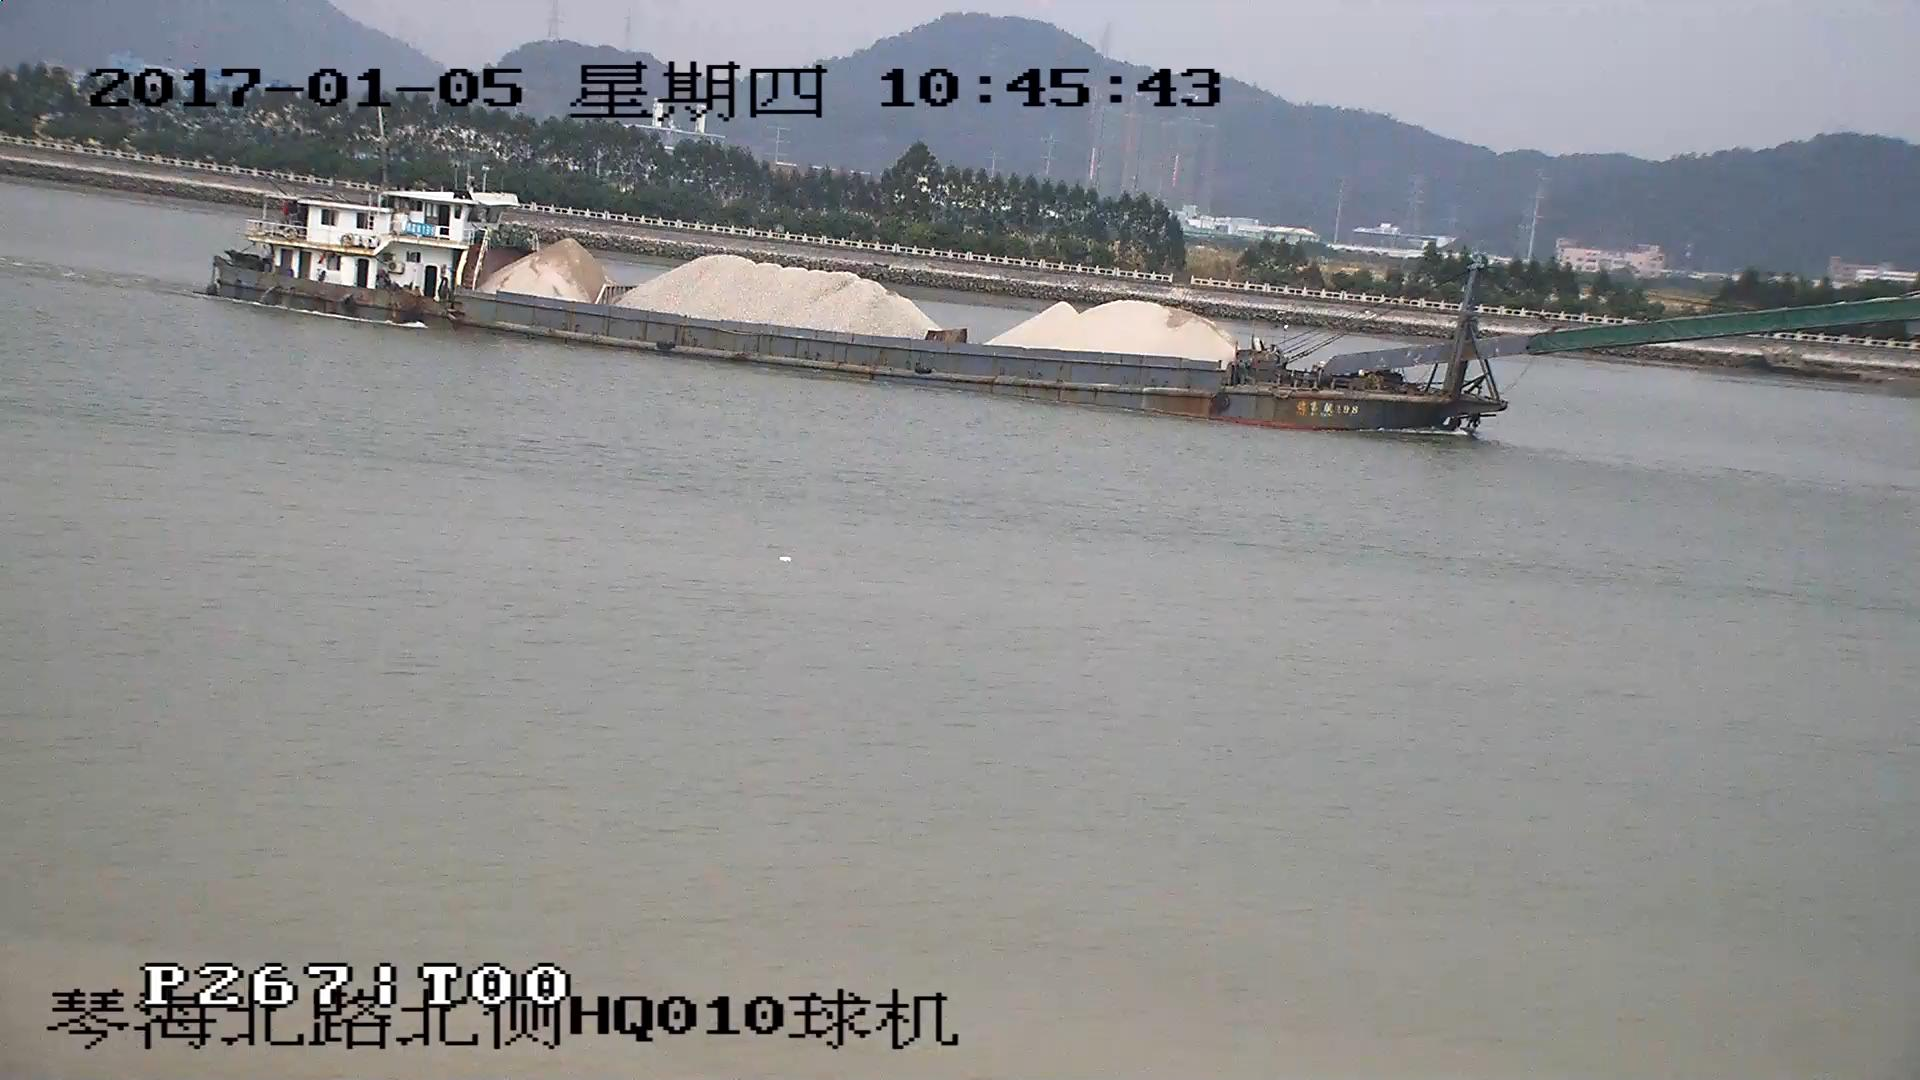ore carrier: (209, 185, 1919, 435)
